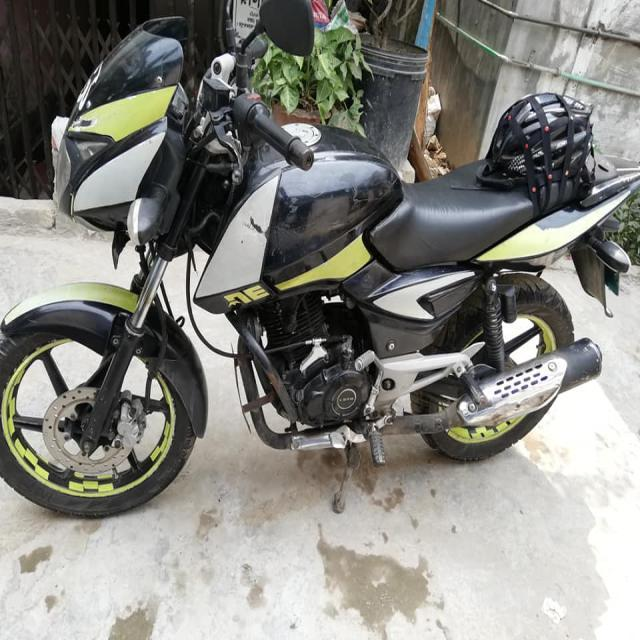Motorbike: (2, 16, 640, 548)
